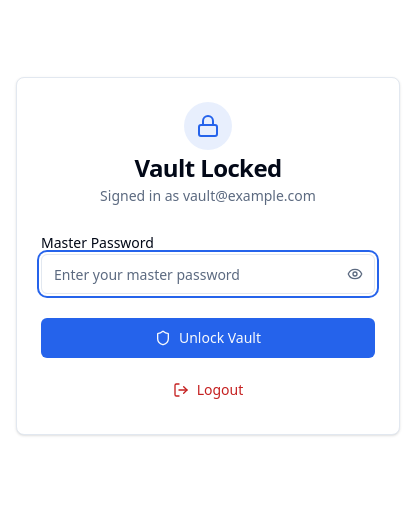
Scenario: unlock — transient failures must not cost the user their session › an ACCOUNT_LOCKED answer on the REFRESH keeps the session and explains itself
Type "whatever" into the password field labelled "Master Password".
click(208, 274); type("whatever")  # box [41,254,375,294]
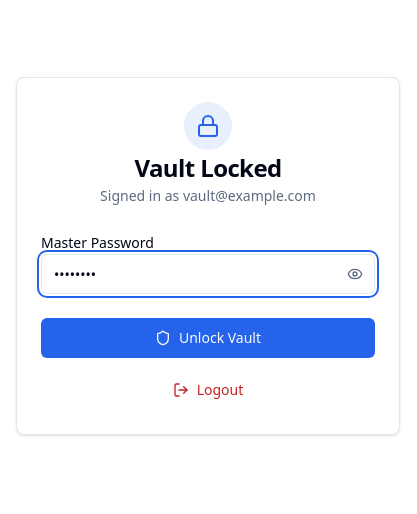
Click the button "Unlock Vault".
click(208, 338)  # box [41,318,375,358]
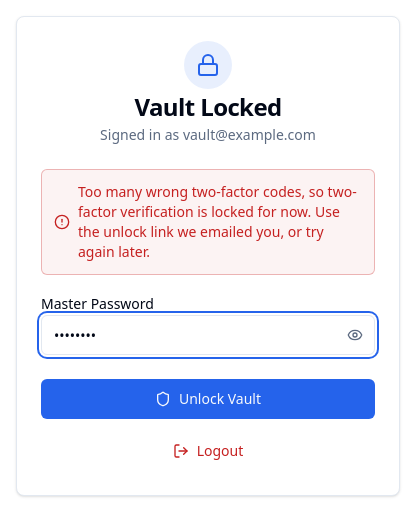
Expected: the button "Unlock Vault" is shown, [41,379,375,419]
Now the text "Too many wrong two-factor codes, so two-factor verification is locked for now. Use the unlock link we emailed you, or tr" is shown, box [78,182,357,261]
